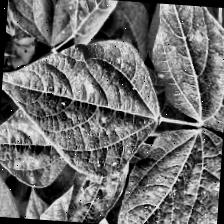Bean Rust: (0, 30, 164, 179), (104, 122, 223, 224), (145, 2, 224, 133)
